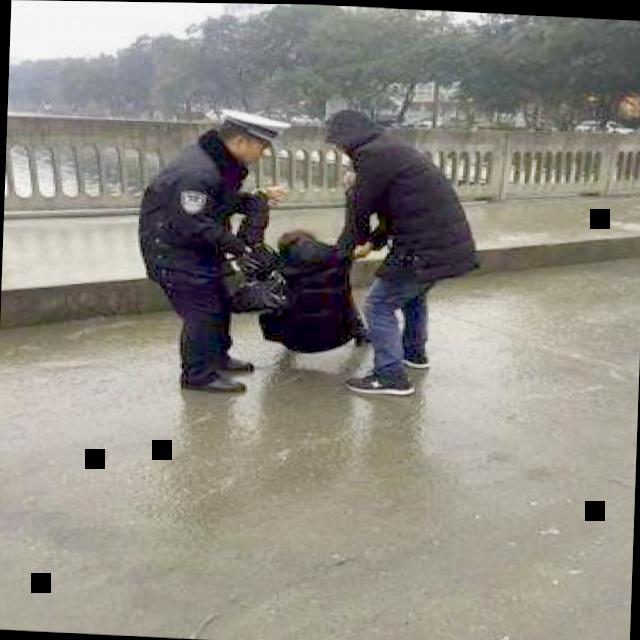Fall-Detected: (227, 205, 397, 380)
